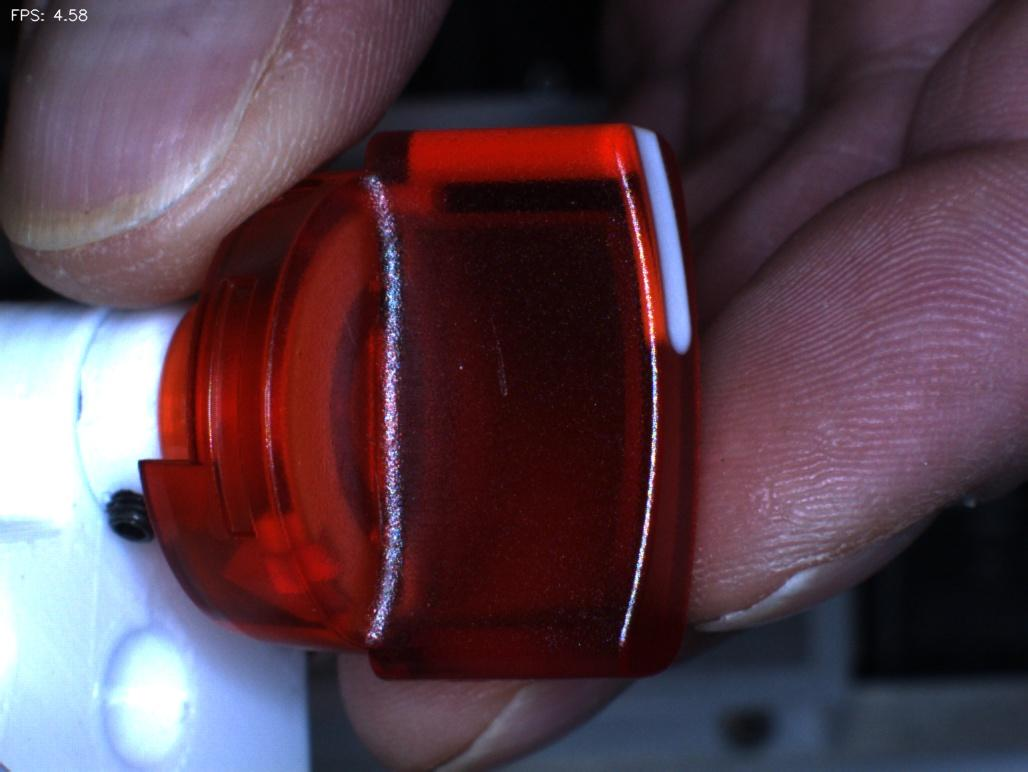Givrage: (448, 282, 541, 425)
